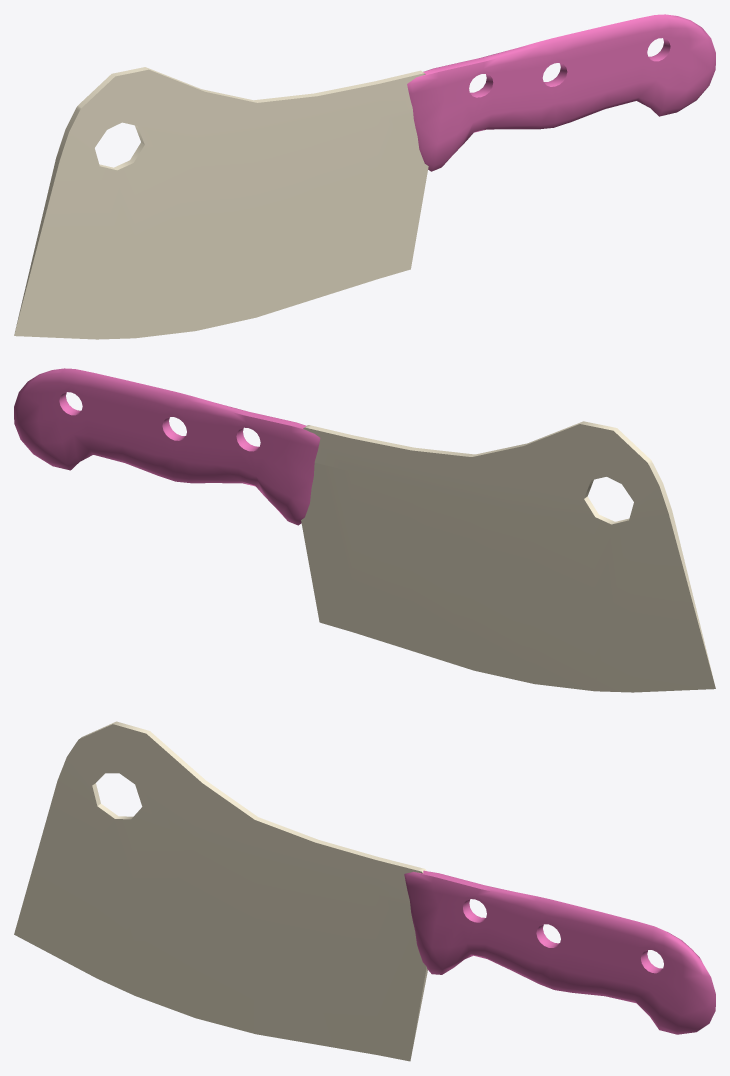
The picture shows the model from 3 angles, top to bottom: view 1: azimuth 30°, elevation 25°; view 2: azimuth 150°, elevation 25°; view 3: azimuth 330°, elevation 25°; orthographic projection.
Visible parts, largest first — view 1: split_parent_0, CuteloCabo.001; view 2: split_parent_0, CuteloCabo.001; view 3: split_parent_0, CuteloCabo.001.
Part boxes in pixels (x1,y1,x2,y2): split_parent_0: (14, 67, 428, 339); CuteloCabo.001: (407, 14, 715, 171); split_parent_0: (301, 421, 715, 692); CuteloCabo.001: (14, 368, 320, 525); split_parent_0: (14, 721, 427, 1061); CuteloCabo.001: (404, 870, 715, 1034).
Bounding box in the file's own units: 1 × 0.3765 × 0.0162.
